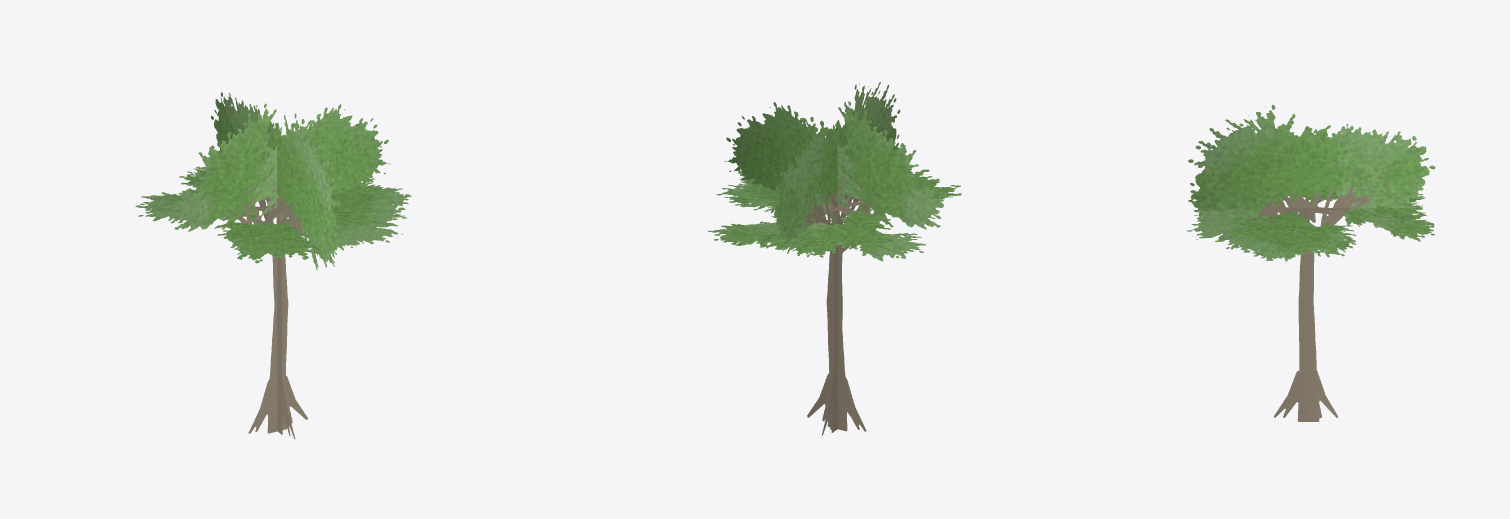
File: jungle_tree_1_far.glb
3 views of the same model, side by side, from view 1: azimuth 30°, elevation 25°; view 2: azimuth 150°, elevation 25°; view 3: azimuth 270°, elevation 25° (orthographic). The views are drawn at different scales.
Visible parts, largest first — view 1: jungle_tree_1_far; view 2: jungle_tree_1_far; view 3: jungle_tree_1_far.
Part boxes in pixels (x1,y1,x2,y2): jungle_tree_1_far: [135, 92, 411, 439]; jungle_tree_1_far: [708, 82, 961, 435]; jungle_tree_1_far: [1187, 105, 1435, 421].
Size of the model in its own units: 17.37 by 17.37 by 17.37.
1 material, 1 textured.
